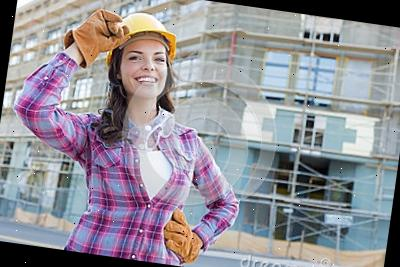helmet: (104, 7, 180, 76)
no_wear: (65, 109, 203, 266)
